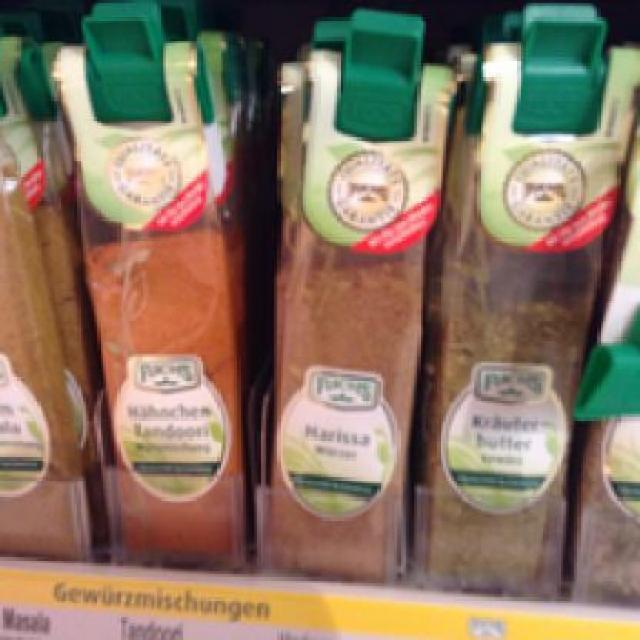Spices: (422, 49, 632, 580), (48, 40, 248, 560), (260, 54, 446, 577)
